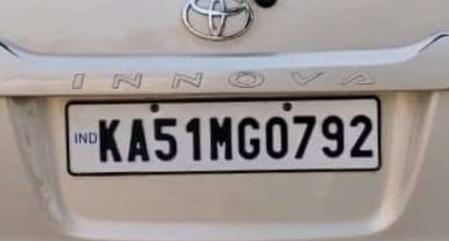0: (262, 115, 290, 164)
1: (183, 114, 205, 165)
2: (348, 112, 376, 163)
5: (151, 114, 180, 164)
7: (291, 112, 317, 164)
9: (321, 110, 348, 161)
A: (125, 118, 153, 165)
G: (235, 116, 263, 161)
K: (95, 113, 126, 164)
M: (208, 113, 235, 162)
